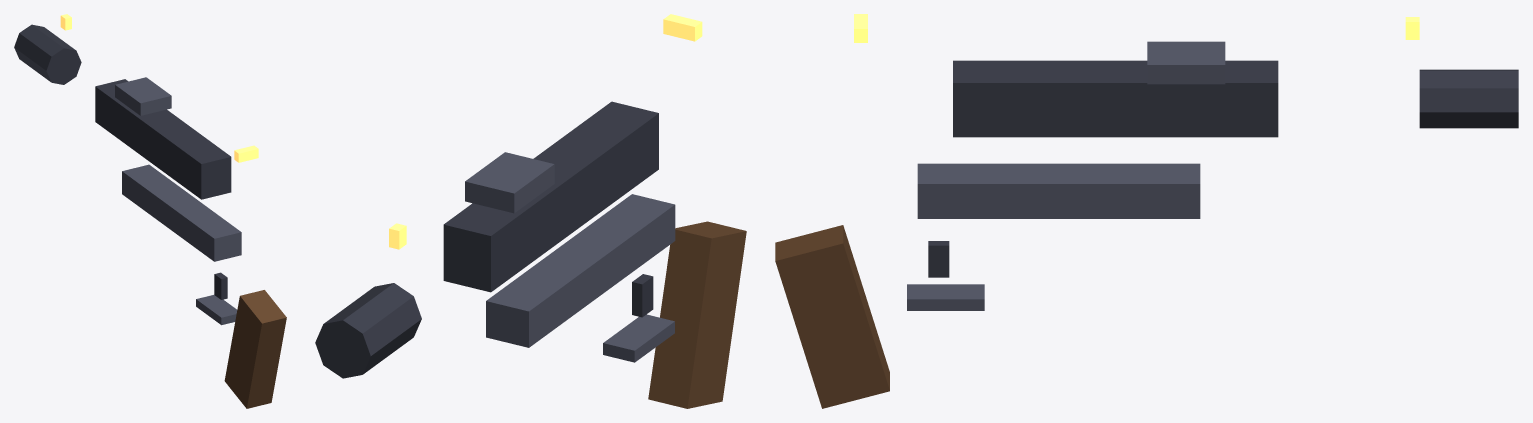
File: weapon_handgun.glb
3 views of the same model, side by side, from view 1: azimuth 30°, elevation 25°; view 2: azimuth 150°, elevation 25°; view 3: azimuth 270°, elevation 25° (orthographic). The views are drawn at different scales.
Visible parts, largest first — view 1: handgun; view 2: handgun; view 3: handgun.
Boxes of the visible parts, x1,y1,x2,y2 form: handgun: (14, 14, 286, 408); handgun: (315, 14, 746, 408); handgun: (775, 14, 1518, 408).
Size of the model in its own units: 0.0455 by 0.2966 by 0.5256.
